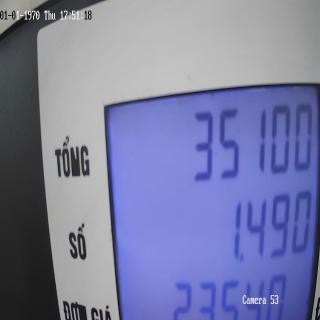screen: (98, 77, 318, 320)
